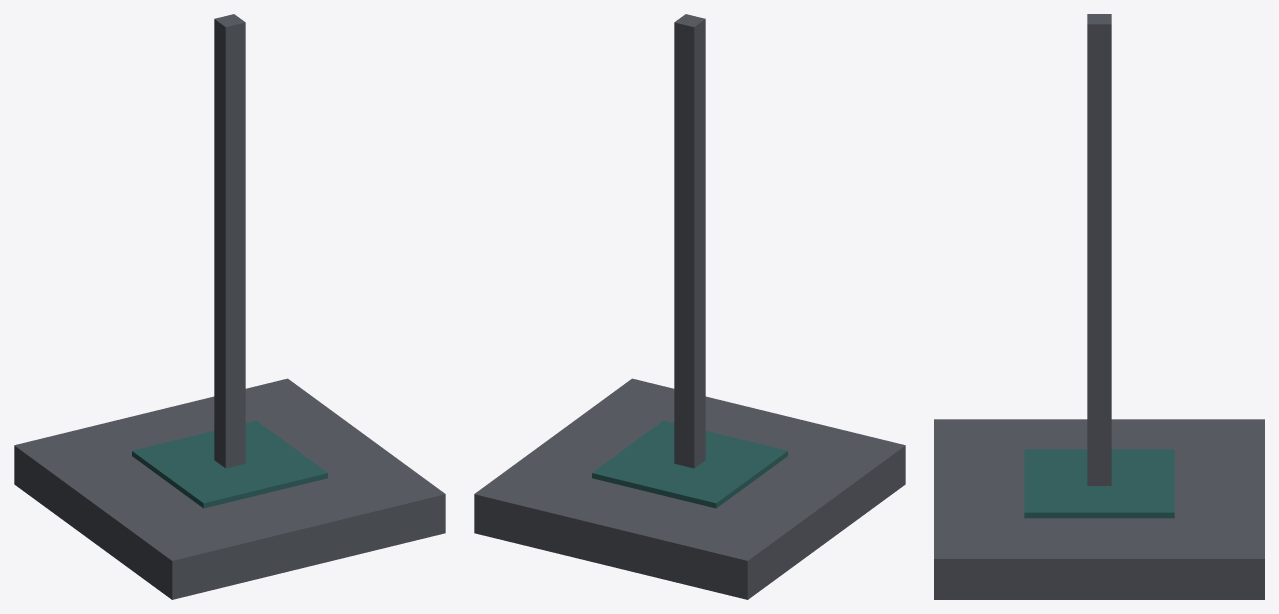
File: HangLight.fbx
3 views of the same model, side by side, from view 1: azimuth 30°, elevation 25°; view 2: azimuth 150°, elevation 25°; view 3: azimuth 270°, elevation 25° (orthographic). The views are drawn at different scales.
Visible parts, largest first — view 1: SM_HangLight; view 2: SM_HangLight; view 3: SM_HangLight.
Boxes of the visible parts, x1,y1,x2,y2 form: SM_HangLight: (14, 14, 445, 599); SM_HangLight: (474, 14, 905, 599); SM_HangLight: (934, 14, 1264, 599).
Size of the model in its own units: 2.2 by 3.83 by 2.2.
